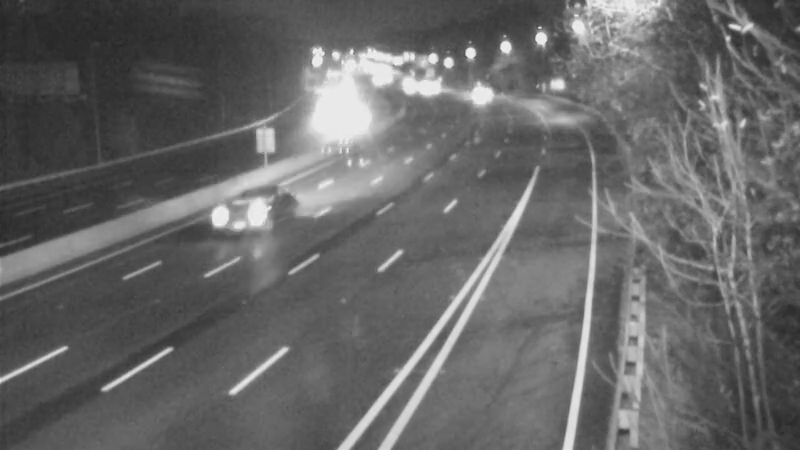vehicle: (201, 170, 281, 250), (455, 61, 505, 111), (333, 95, 383, 145)
